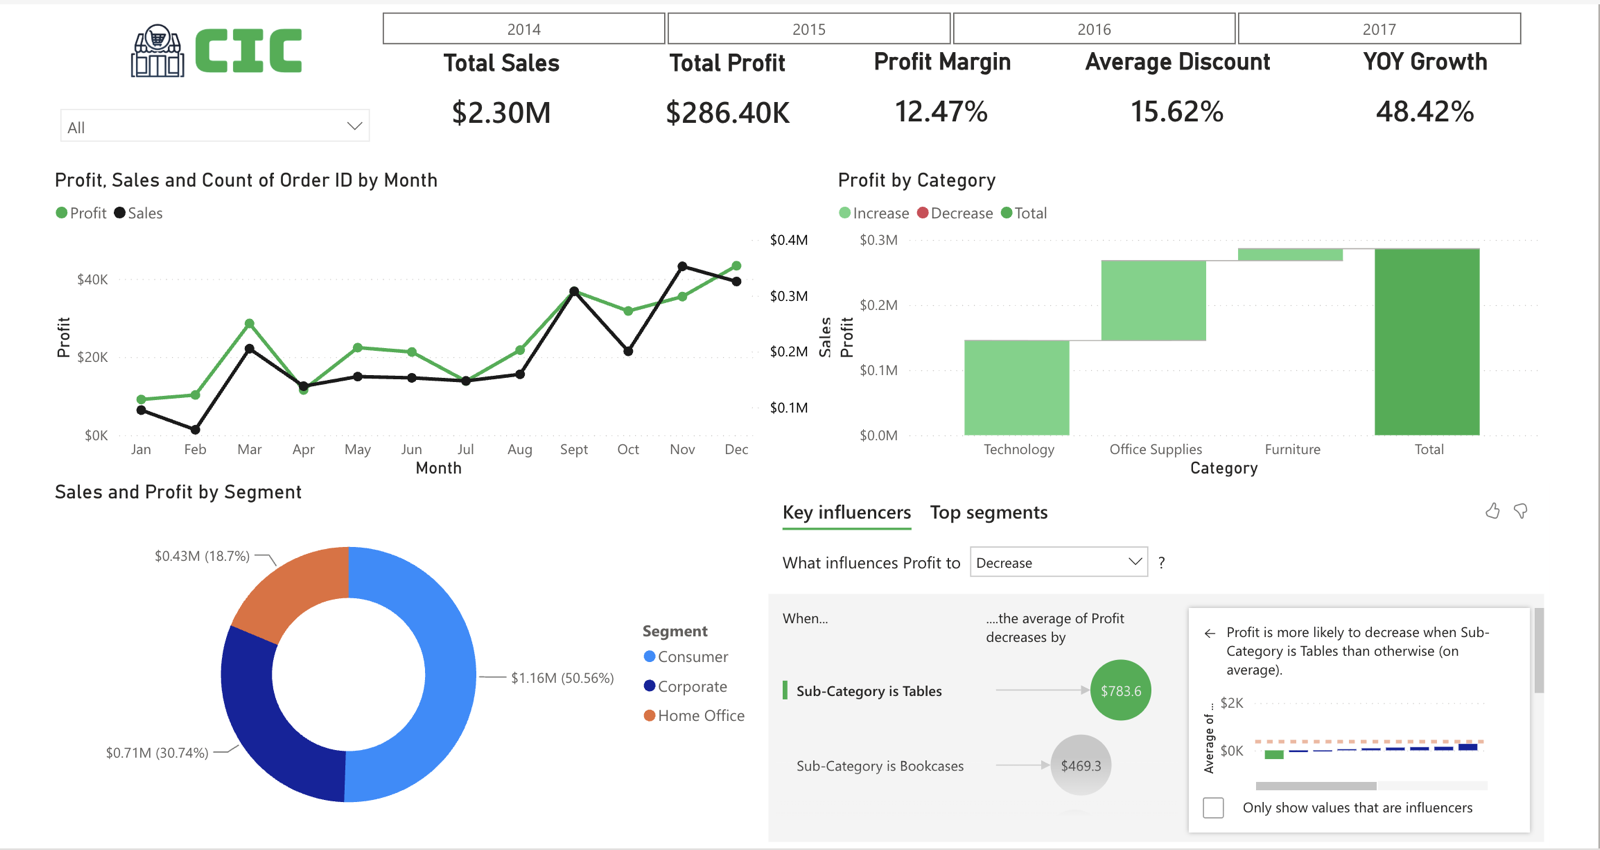

This screenshot's page, from the dashboard's own definition file:
{"tool":"powerbi","page":{"name":"Sales and Profit","canvas":[1280,720],"ordinal":0},"visuals":[{"type":"slicer","fields":{"Values":["Date Table.Year"]},"box":[258.8,0,1020.9,39.4],"z":4000},{"type":"slicer","fields":{"Values":["Date Table.Month"]},"box":[0,79.7,283.9,40.3],"z":6000},{"type":"lineChart","fields":{"Category":["Date Table.Month"],"Y":["CIC.Profit_M"],"Y2":["CIC.Sales_M"]},"box":[0,141.5,671.6,266],"z":7000},{"type":"donutChart","fields":{"Y":["CIC.Sales_M"],"Category":["CIC.Segment","CIC.Category","CIC.Sub-Category"]},"box":[0,407.4,608.6,312.1],"z":8000},{"type":"waterfallChart","fields":{"Category":["CIC.Category","CIC.Sub-Category"],"Y":["CIC.Profit_M"]},"box":[668.1,141.5,608.1,266],"z":9000},{"type":"image","box":[0,0,284.1,79.8],"z":10000},{"type":"keyDriversVisual","fields":{"Target":["CIC.Profit_M"],"ExplainBy":["CIC.Category","CIC.Sub-Category","Date Table.Year","Date Table.Month"]},"box":[609,407.5,671.6,311.6],"z":11000},{"type":"cardVisual","title":"YOY Growth","fields":{"Data":["CIC.YOY Growth"]},"box":[1072.8,39.4,204.2,80.6],"z":13500},{"type":"cardVisual","title":"Total Sales","fields":{"Data":["CIC.Sales_M"]},"box":[283.9,40.3,205.1,80.6],"z":13562},{"type":"cardVisual","title":"Total Profit","fields":{"Data":["CIC.Profit_M"]},"box":[489,40.3,179.1,80.6],"z":13625},{"type":"cardVisual","title":"Profit Margin","fields":{"Data":["CIC.Profit Percentage"]},"box":[671.6,38.5,181.8,81.5],"z":13750},{"type":"cardVisual","title":"Average Discount ","fields":{"Data":["CIC.Avg Discount"]},"box":[853.4,38.5,219.4,81.5],"z":14000}]}

Visuals, with their boxes on the page's 1280x720 design canvas (x1, y1, x2, y2). These are canvas units, not pixel positions in the 1600x850 screenshot, which may show the page scaled, cropped or inside an application window:
slicer - Date Table.Year: 259/0/1280/39
slicer - Date Table.Month: 0/80/284/120
lineChart - Date Table.Month x CIC.Profit_M: 0/142/672/408
donutChart - CIC.Sales_M x CIC.Segment: 0/407/609/720
waterfallChart - CIC.Category x CIC.Sub-Category: 668/142/1276/408
image: 0/0/284/80
keyDriversVisual - CIC.Profit_M x CIC.Category: 609/408/1281/719
"YOY Growth" cardVisual: 1073/39/1277/120
"Total Sales" cardVisual: 284/40/489/121
"Total Profit" cardVisual: 489/40/668/121
"Profit Margin" cardVisual: 672/38/853/120
"Average Discount " cardVisual: 853/38/1073/120
